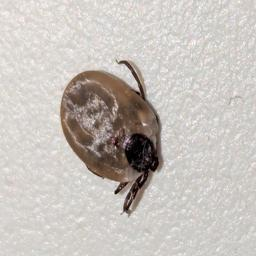Ixodes scapularis: (60, 60, 162, 214)
